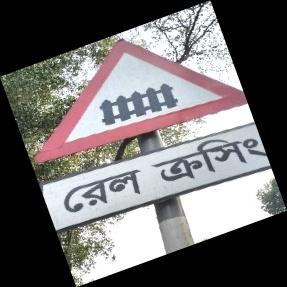Rail-crossing: (40, 39, 277, 229)
